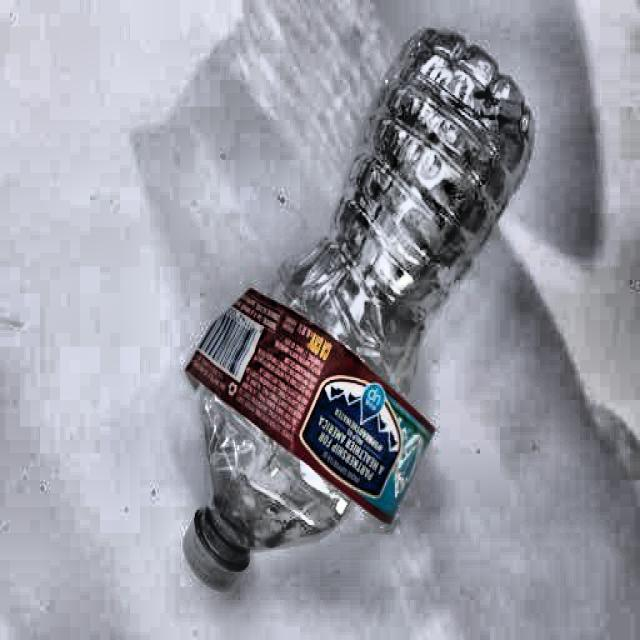plastic: (182, 23, 534, 590)
